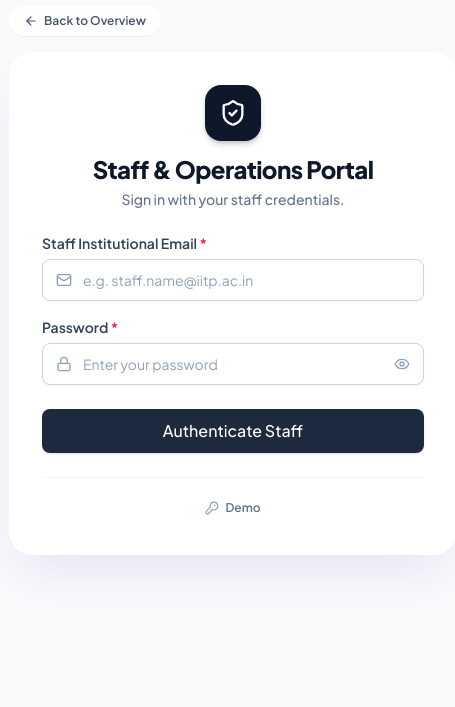
StaffLoginPage › displays error if a student tries to authenticate via staff portal
In the field labelled "Staff Institutional Email *": x=233, y=280 [42,259,424,301], type "alex.sharma@iitp.ac.in"
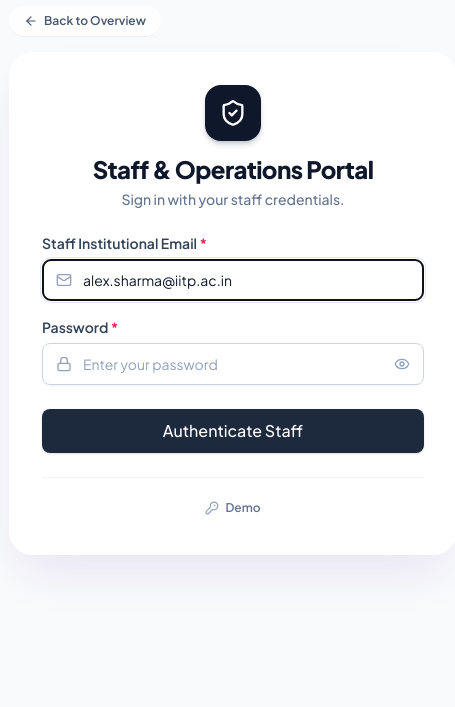
In the password field labelled "Password *": x=233, y=364 [42,343,424,385], type "mock-student-pass"
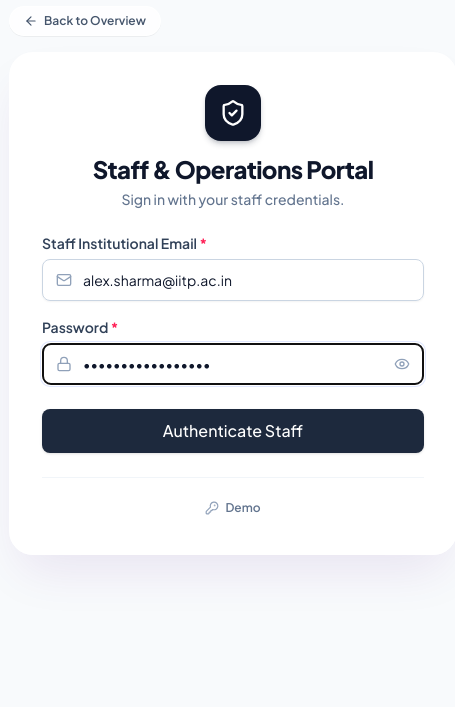
Click the button "Authenticate Staff": x=233, y=431 [42,409,424,453]
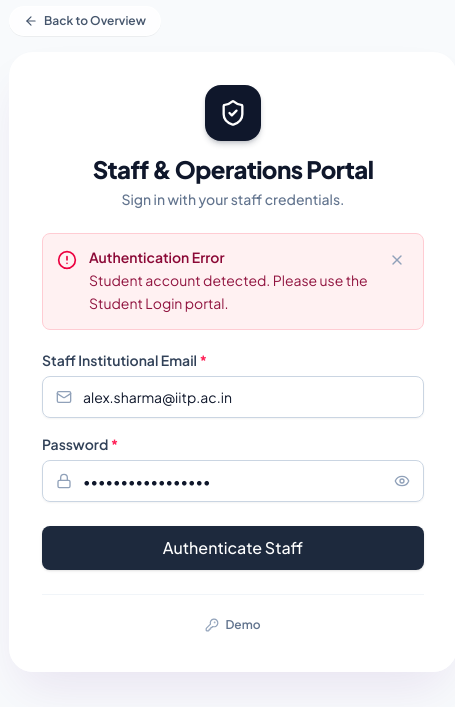
Now the text "Student account detected. Please use the Student Login portal." is shown, box [89,269,373,315]
